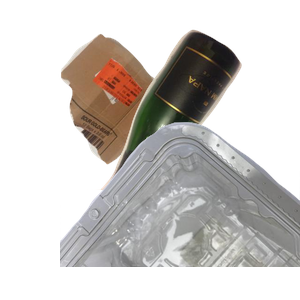cardboard: (58, 31, 222, 188)
glass: (87, 27, 300, 207)
plastic: (60, 120, 300, 300)
trash: (109, 175, 279, 300)
